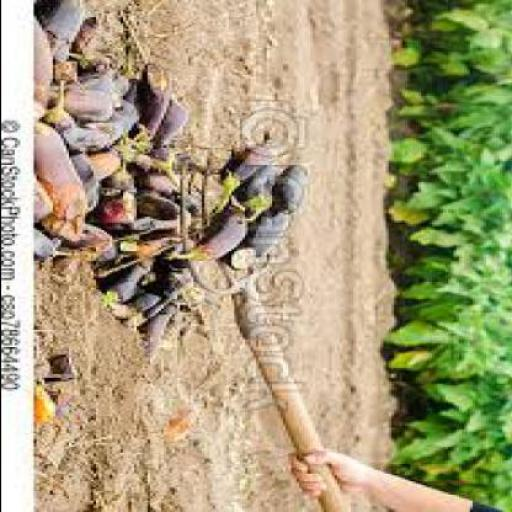biodegradable: (396, 0, 511, 480), (390, 272, 511, 396), (396, 74, 511, 198), (392, 171, 510, 291), (392, 0, 510, 94), (398, 374, 510, 463), (392, 442, 510, 511), (38, 123, 89, 224), (32, 81, 81, 169), (223, 138, 284, 198), (178, 207, 244, 261), (234, 208, 292, 266), (36, 0, 92, 60), (122, 282, 187, 330), (106, 251, 160, 303), (60, 214, 118, 261), (74, 52, 132, 98), (62, 79, 116, 127), (141, 59, 170, 134), (239, 161, 282, 209), (32, 21, 52, 121), (98, 186, 141, 230), (168, 140, 217, 178), (73, 152, 103, 209), (274, 163, 308, 211), (108, 291, 162, 321), (106, 263, 146, 303), (138, 163, 187, 195), (71, 18, 103, 67), (149, 302, 176, 360), (158, 94, 192, 136), (90, 142, 128, 178), (103, 165, 141, 199), (90, 114, 124, 152), (138, 190, 189, 215), (128, 211, 186, 232), (152, 138, 182, 178), (133, 232, 185, 254), (111, 96, 141, 134), (46, 351, 81, 380), (35, 226, 65, 258), (35, 384, 60, 422), (38, 176, 57, 223), (35, 338, 55, 380), (125, 74, 138, 106)
